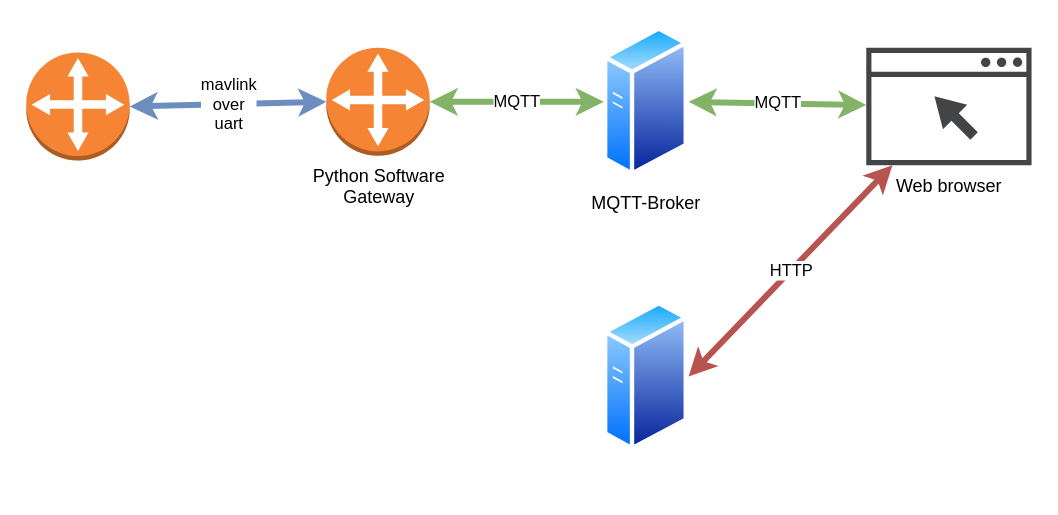
Some shapes in this 1058 by 515 pixel diagram are drawn without their labels. Each missing label, with the centre of its shape:
C Firmware Gateway: point (77, 105)
Django Web Server: point (645, 376)
